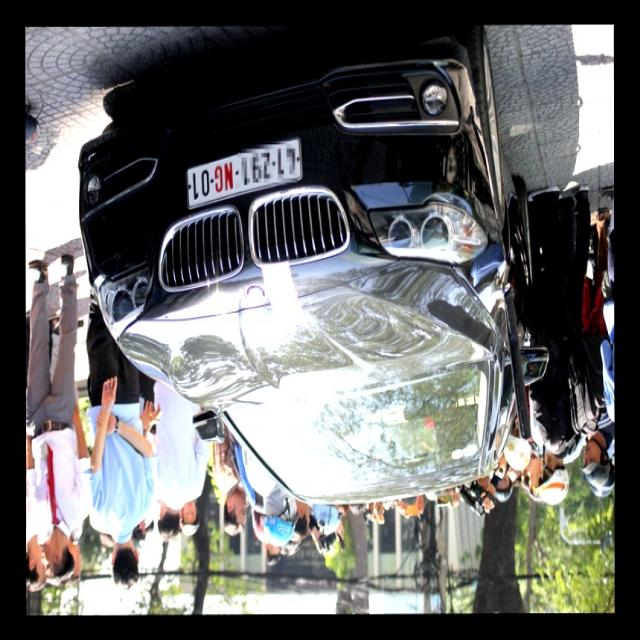bien_ngoai_giao: (172, 139, 310, 208)
